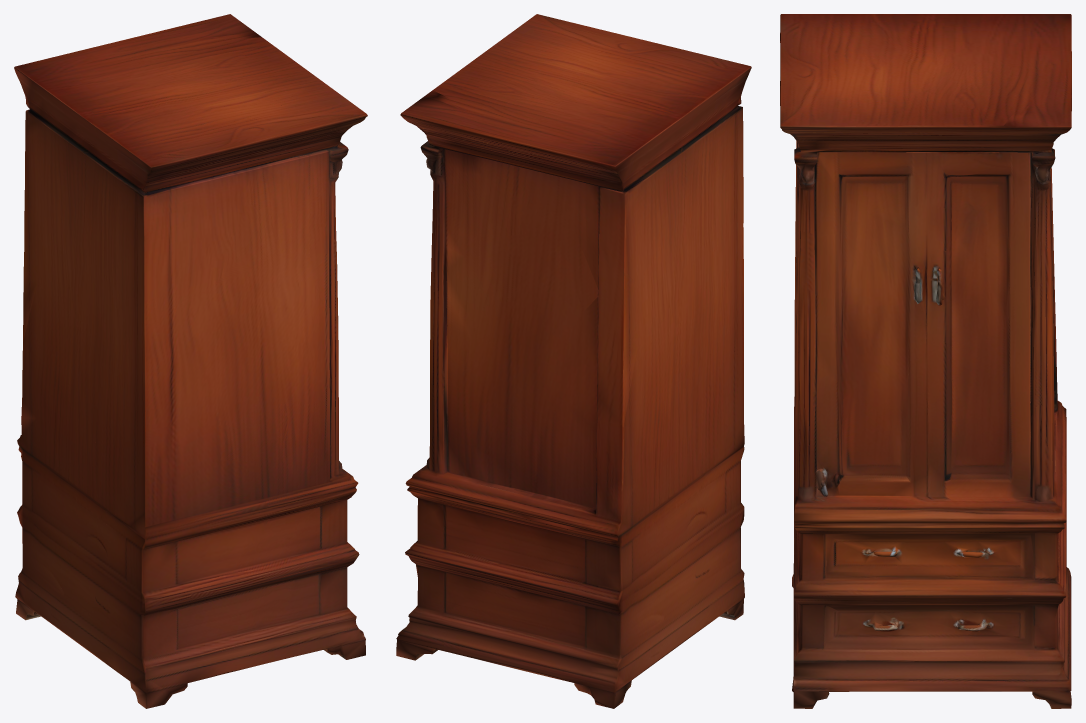
File: wardrobe-tripo.glb
3 renders of one model, left to right at view 1: azimuth 30°, elevation 25°; view 2: azimuth 150°, elevation 25°; view 3: azimuth 270°, elevation 25°, orthographic. The views are drawn at different scales.
Visible parts, largest first — view 1: tripo_node_87a92064-1b14-4d66-b09f-7ca673b471d7; view 2: tripo_node_87a92064-1b14-4d66-b09f-7ca673b471d7; view 3: tripo_node_87a92064-1b14-4d66-b09f-7ca673b471d7.
Boxes of the visible parts, x1,y1,x2,y2 form: tripo_node_87a92064-1b14-4d66-b09f-7ca673b471d7: [14, 14, 367, 708]; tripo_node_87a92064-1b14-4d66-b09f-7ca673b471d7: [396, 14, 751, 708]; tripo_node_87a92064-1b14-4d66-b09f-7ca673b471d7: [780, 14, 1071, 708].
Bounding box in the file's own units: 0.4228 × 0.9999 × 0.4551.
1 material, 1 textured.
